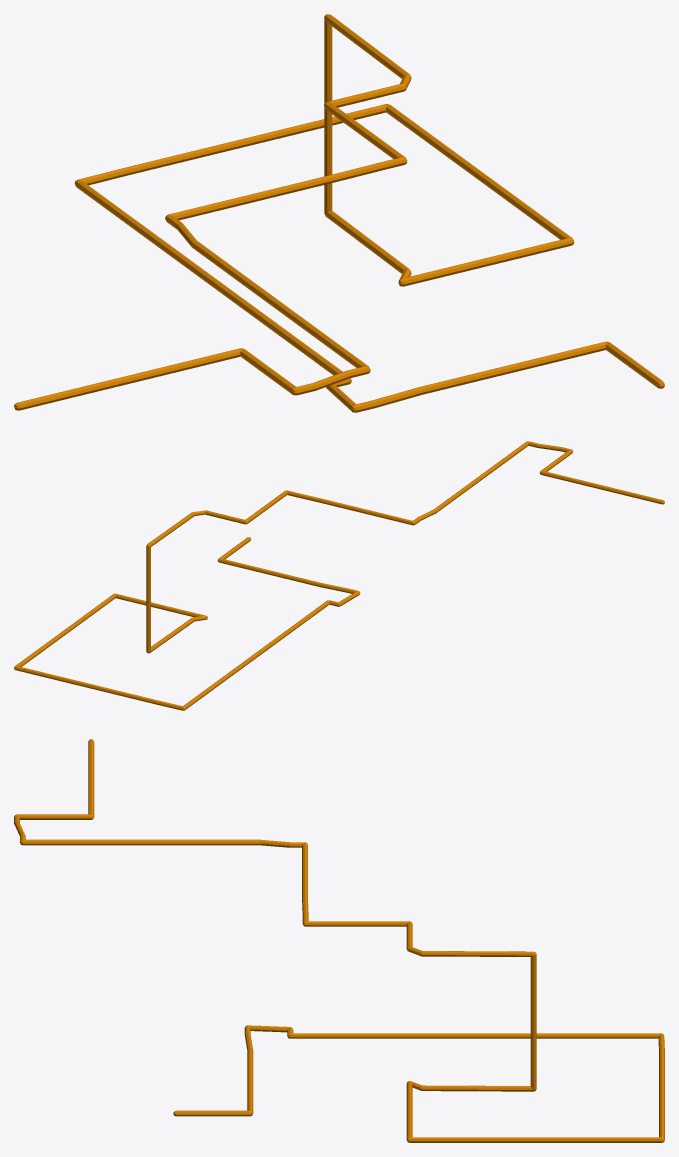
3 renders of one model, top to bottom at view 1: azimuth 30°, elevation 25°; view 2: azimuth 150°, elevation 25°; view 3: azimuth 270°, elevation 25°, orthographic. The views are drawn at different scales.
Size of the model in its own units: 2121 by 520 by 2193.
